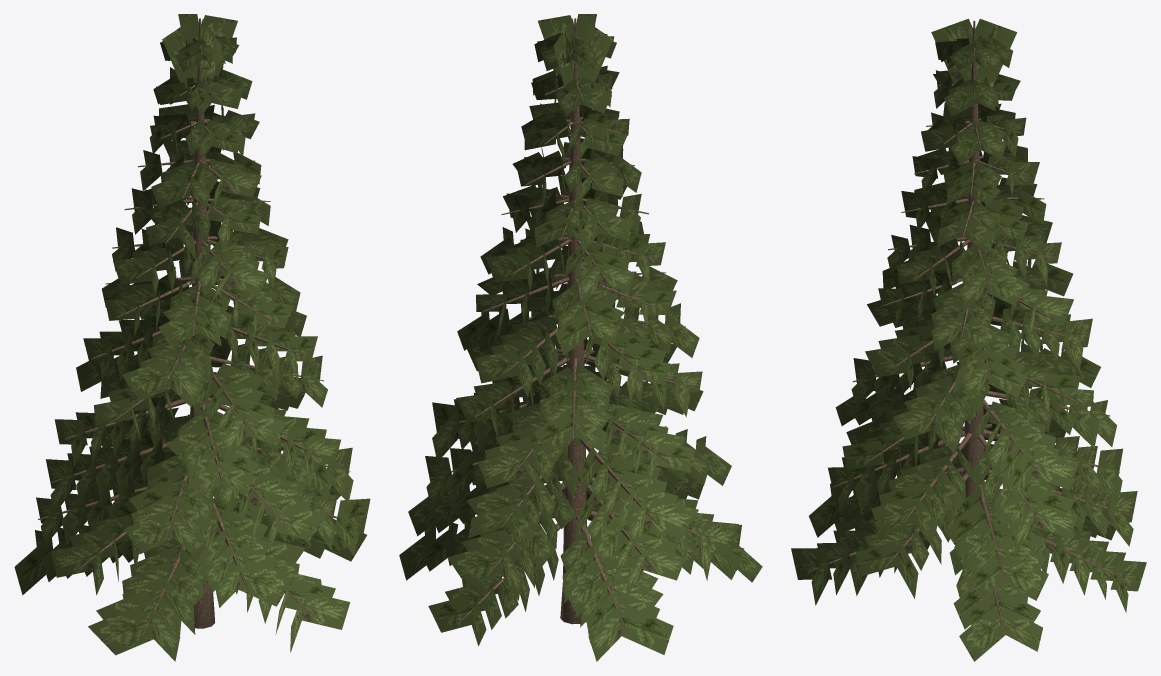
Rendered from pine_0.glb.
3 views of the same model, side by side, from view 1: azimuth 30°, elevation 25°; view 2: azimuth 150°, elevation 25°; view 3: azimuth 270°, elevation 25° (orthographic).
Visible parts, largest first — view 1: Pine; view 2: Pine; view 3: Pine.
Part boxes in pixels (x1,y1,x2,y2): Pine: (14,14,370,661); Pine: (399,14,762,661); Pine: (791,18,1146,661).
Size of the model in its own units: 6.96 by 13 by 7.06.
Materials: 2 (2 with a texture image).
